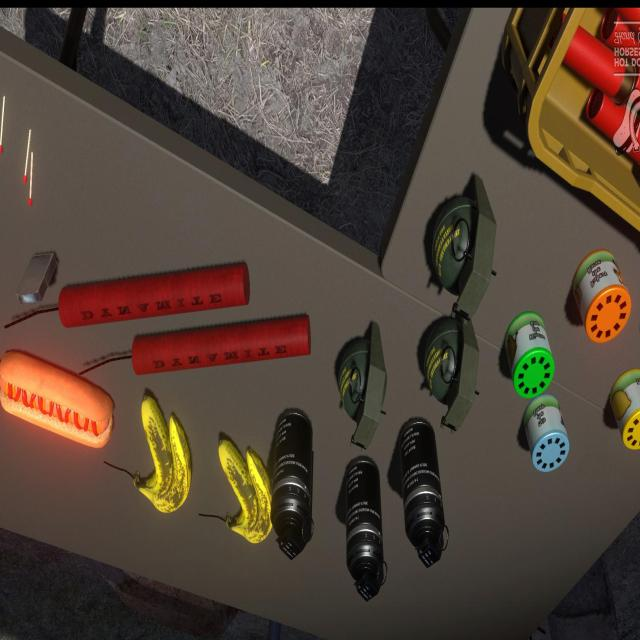grenade: (429, 173, 496, 323), (422, 310, 482, 440), (270, 407, 317, 568), (400, 420, 447, 573), (344, 460, 387, 607), (338, 326, 388, 451)
